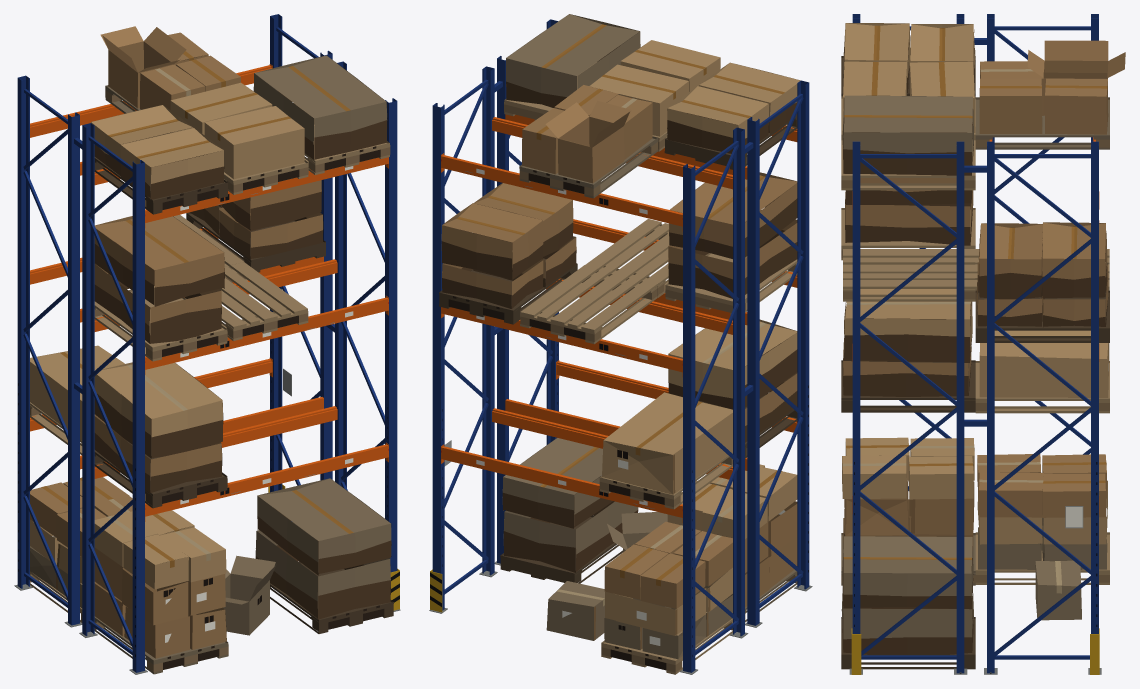
Rendered from rack@7.glb.
3 views of the same model, side by side, from view 1: azimuth 30°, elevation 25°; view 2: azimuth 150°, elevation 25°; view 3: azimuth 270°, elevation 25° (orthographic). The views are drawn at different scales.
Visible parts, largest first — view 1: rack0, rack15, rack18, rack21, rack24, rack8, rack25, rack23, rack14, rack19, rack13, rack12 (+2 smaller); view 2: rack0, rack15, rack18, rack21, rack8, rack24, rack25, rack23, rack19, rack13, rack14, rack12 (+2 smaller); view 3: rack15, rack18, rack0, rack21, rack24, rack25, rack23, rack19, rack12, rack20, rack13, rack4.
Part boxes in pixels (box(x1,y1,x2,y2)): rack0: box(17, 14, 397, 672); rack15: box(30, 26, 323, 658); rack18: box(30, 82, 304, 589); rack21: box(30, 55, 391, 635); rack24: box(94, 91, 391, 619); rack8: box(30, 64, 388, 521); rack25: box(30, 103, 390, 622); rack23: box(94, 146, 393, 633); rack14: box(162, 146, 384, 669); rack19: box(41, 51, 353, 567); rack13: box(30, 90, 390, 672); rack12: box(94, 85, 228, 674); rack0: box(432, 19, 809, 672); rack15: box(441, 85, 797, 608); rack18: box(589, 40, 800, 635); rack21: box(502, 14, 732, 659); rack8: box(441, 114, 797, 522); rack24: box(441, 46, 797, 572); rack25: box(504, 61, 797, 674); rack23: box(439, 105, 797, 583); rack19: box(457, 24, 784, 586); rack13: box(504, 104, 797, 672); rack14: box(448, 170, 666, 670); rack12: box(519, 136, 797, 622); rack15: box(843, 40, 1125, 550); rack18: box(842, 23, 1109, 544); rack0: box(852, 14, 1098, 673); rack21: box(841, 95, 1107, 639); rack24: box(842, 41, 1108, 654); rack25: box(841, 96, 1109, 584); rack23: box(841, 56, 1109, 669); rack19: box(843, 25, 1107, 559); rack12: box(841, 97, 1109, 585); rack20: box(842, 69, 1061, 593); rack13: box(841, 139, 1109, 583); rack4: box(851, 628, 1099, 674).
Bounding box in the file's own units: 2.83 × 5.38 × 2.54.
